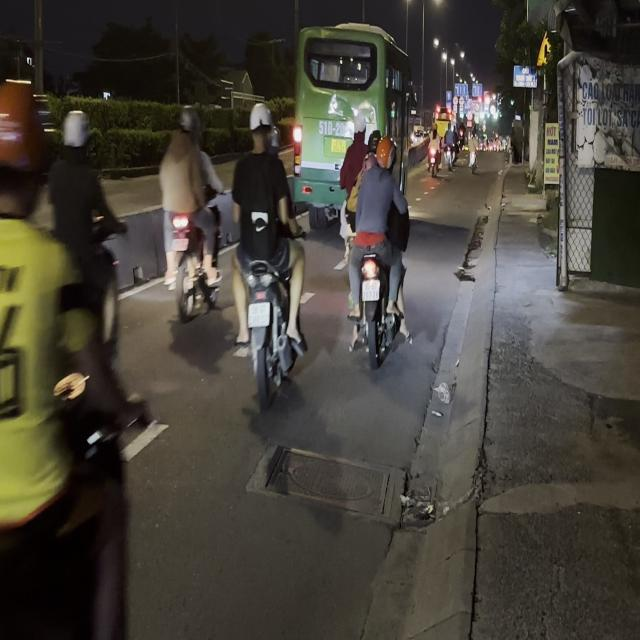helmet: (0, 77, 49, 221), (60, 108, 90, 161), (248, 101, 274, 150), (176, 104, 198, 143), (376, 134, 396, 174), (351, 111, 367, 139), (367, 130, 383, 154)
licenseplate: (0, 77, 165, 640), (227, 99, 309, 412), (340, 109, 411, 369), (157, 102, 223, 320)
nohelmet: (248, 302, 270, 326), (362, 279, 379, 299), (171, 238, 189, 251)
